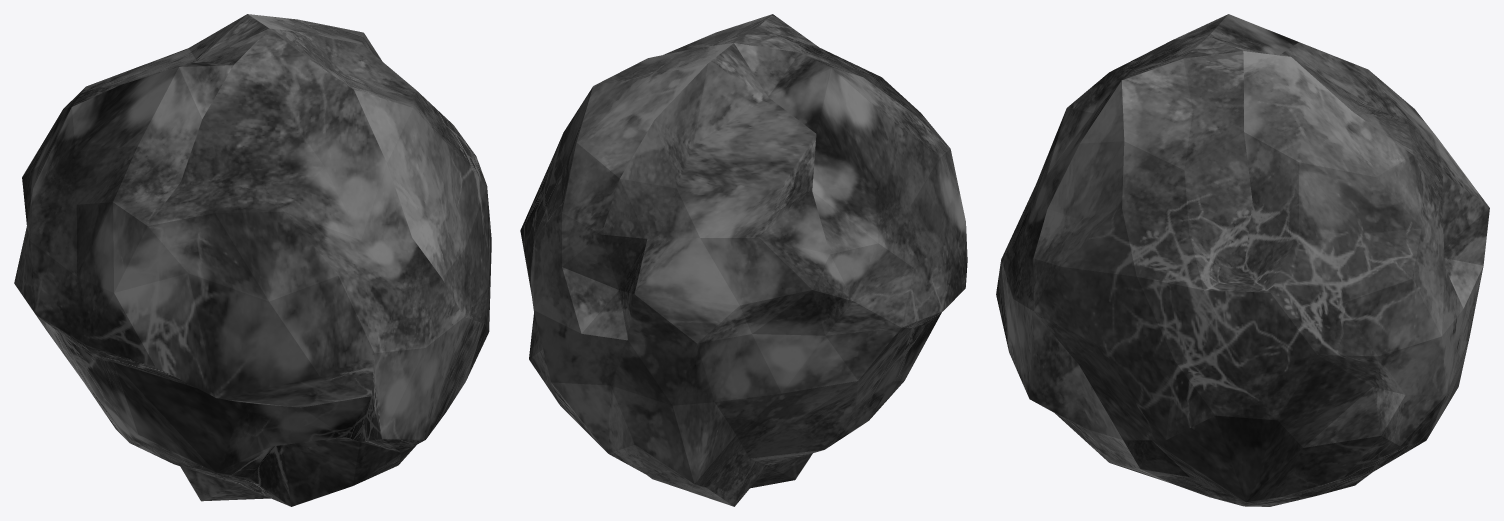
Rendered from asteroid-20m.fbx.
The picture shows the model from 3 angles, left to right: view 1: azimuth 30°, elevation 25°; view 2: azimuth 150°, elevation 25°; view 3: azimuth 270°, elevation 25°; orthographic projection. The views are drawn at different scales.
Parts seen in each view (by area): view 1: Asteroid-20m; view 2: Asteroid-20m; view 3: Asteroid-20m.
Part boxes in pixels (box(x1,y1,x2,y2)): Asteroid-20m: box(14, 14, 491, 506); Asteroid-20m: box(520, 14, 967, 506); Asteroid-20m: box(996, 14, 1489, 506).
Size of the model in its own units: 1852 by 1940 by 1929.
